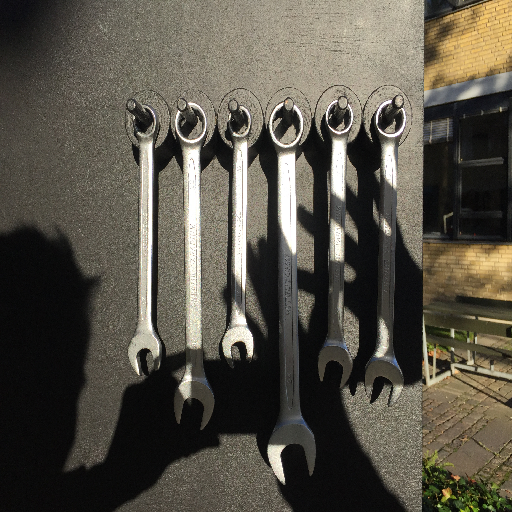bottom: (266, 420, 318, 485), (172, 377, 216, 432), (363, 352, 404, 408), (316, 340, 353, 389), (126, 330, 165, 376), (220, 324, 256, 368)
top: (267, 100, 305, 150), (174, 102, 210, 149), (371, 100, 408, 141), (128, 103, 162, 142), (323, 98, 356, 138), (226, 103, 253, 140)
